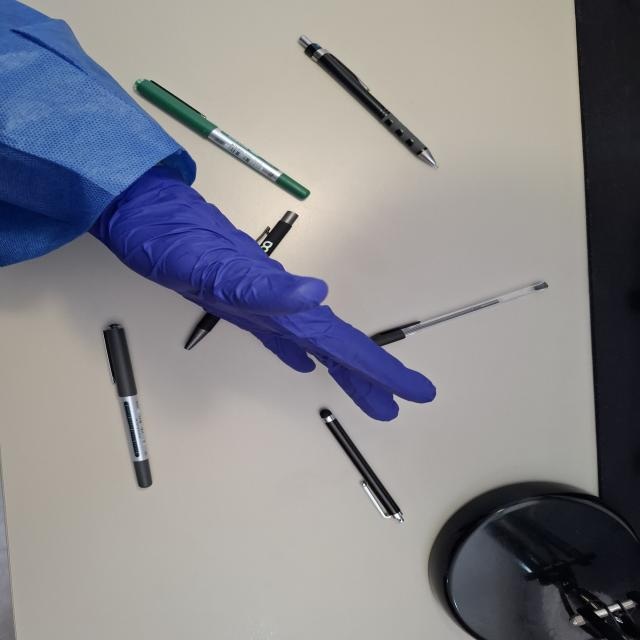glove_on: (87, 154, 441, 426)
